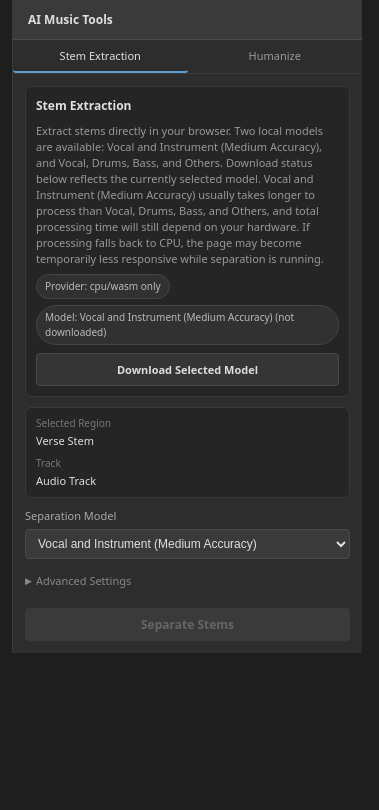
Test: KGOnePanel browser stem extraction › uses Demucs defaults and renders four local stem players
This screenshot has width=379, height=810.
Expected: the text "Selected Region" is shown, [36,416,111,430]
Step 1. Select "Vocal, Drums, Bass, and Others" in the dropdown → point(188, 544), box [25,529,350,559]
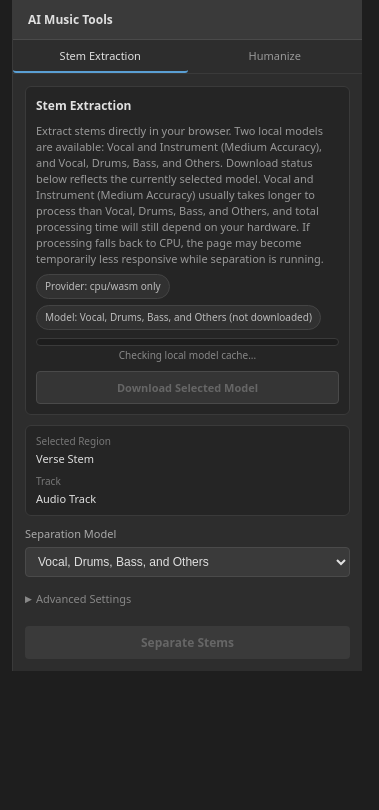
Step 2. Click the button "▶ Advanced Settings" → point(78, 598), box [25,587,131,610]
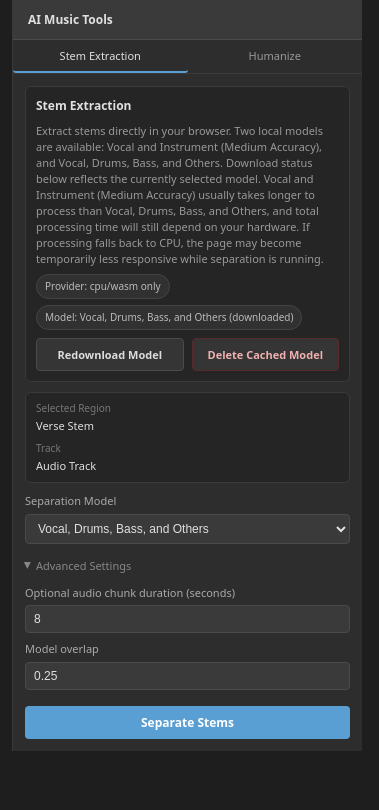
Expected: the number field named "Optional audio chunk duration (seconds)" holds "8", [25,605,350,633]
Expected: the number field named "Model overlap" holds "0.25", [25,662,350,690]
Step 3. Click the button "Separate Stems" → point(188, 722), box [25,706,350,739]
(page scrolled)
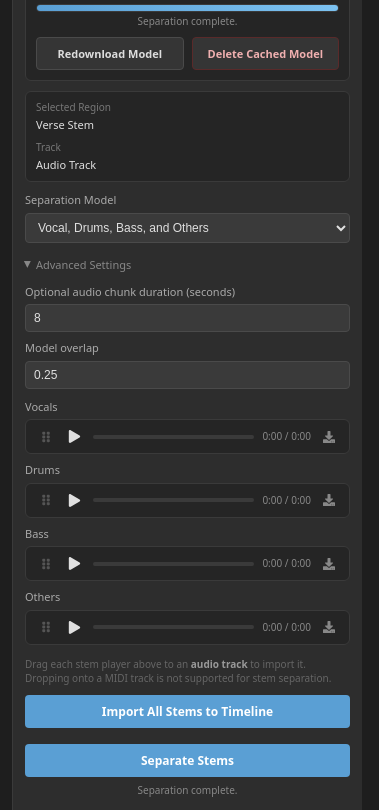
Expected: the text "Vocals" is shown, [25,399,58,414]
Expected: the text "Drums" is shown, [25,462,60,477]
Expected: the text "Bass" is shown, [25,526,49,541]
